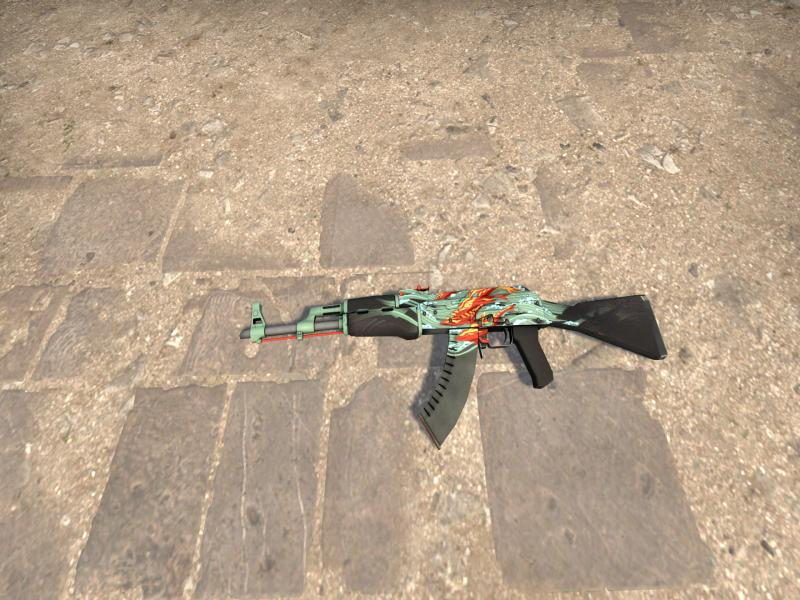AK47: (241, 286, 668, 448)
